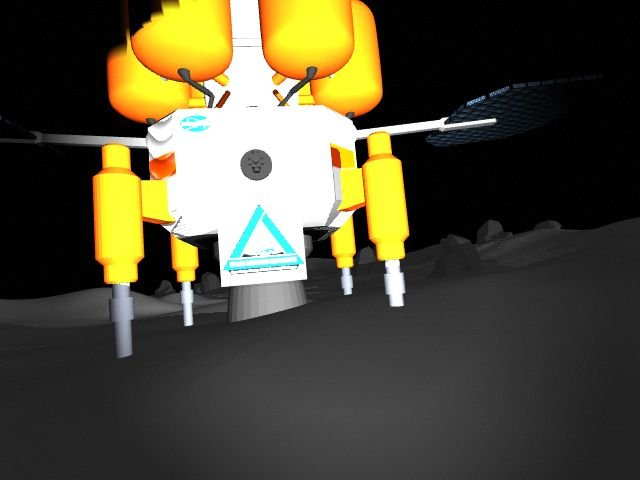basemarker: (222, 204, 306, 276)
